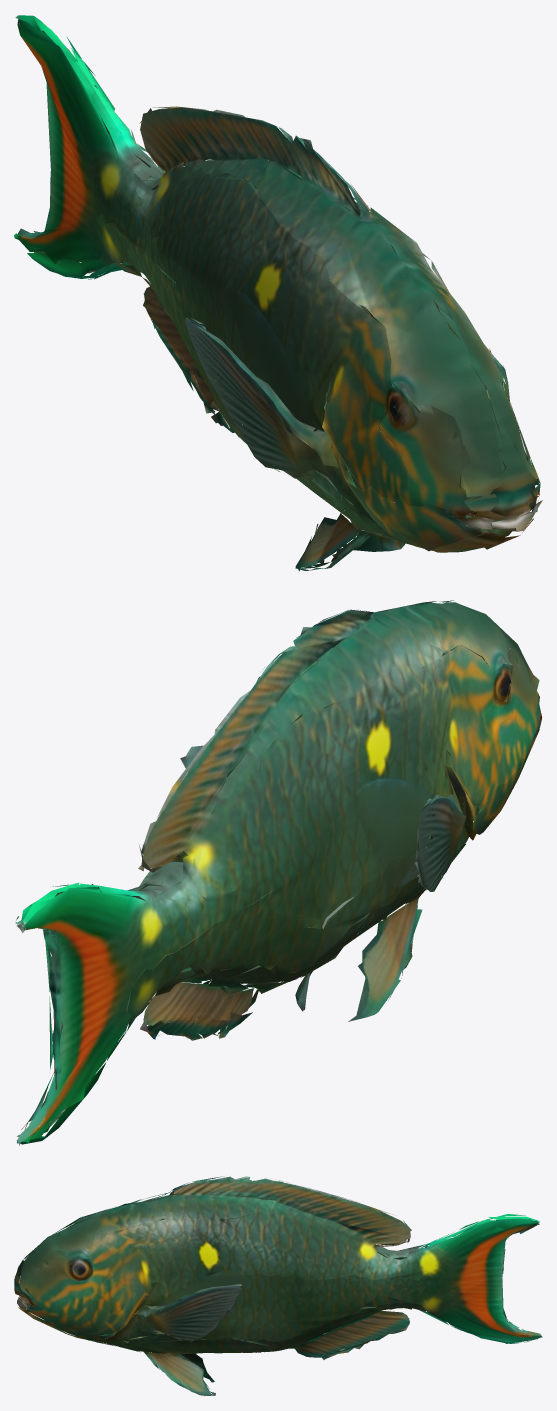
File: parrot.glb
3 views of the same model, one above another, from view 1: azimuth 30°, elevation 25°; view 2: azimuth 150°, elevation 25°; view 3: azimuth 270°, elevation 25° (orthographic). The views are drawn at different scales.
Visible parts, largest first — view 1: parrot.001; view 2: parrot.001; view 3: parrot.001.
Part boxes in pixels (x1,y1,x2,y2): parrot.001: [14, 15, 542, 571]; parrot.001: [15, 600, 541, 1145]; parrot.001: [14, 1176, 542, 1395].
Bounding box in the file's own units: 0.2785 × 0.4459 × 1.
1 material, 1 textured.
